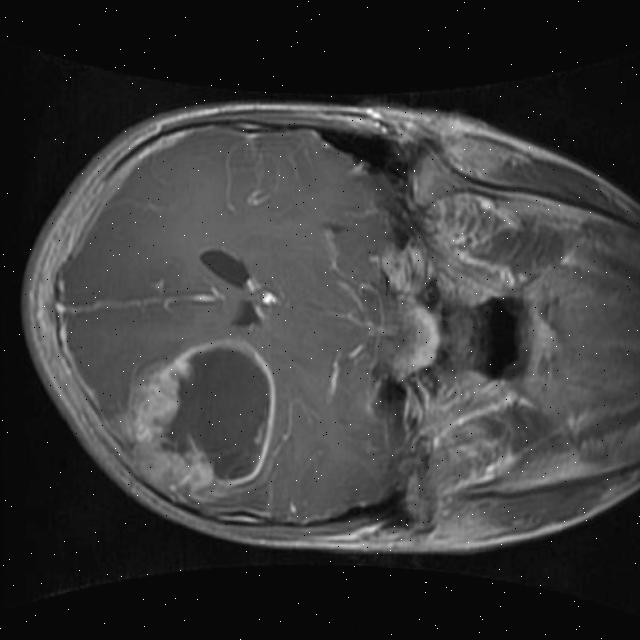Glioma: (122, 334, 278, 498)
Pituitary: (406, 301, 440, 370)
